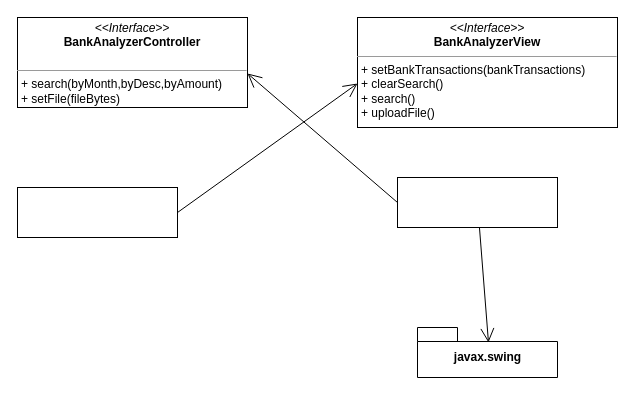
The diagram is 635 pixels wide and 395 high, and some of its shapes have lost their labels. Here are the shapes that lost their labels. From the top down, the centre of each, then its label:
(97,212): BankAnalyzerModel
(477,202): BankAnalyzerDialog
